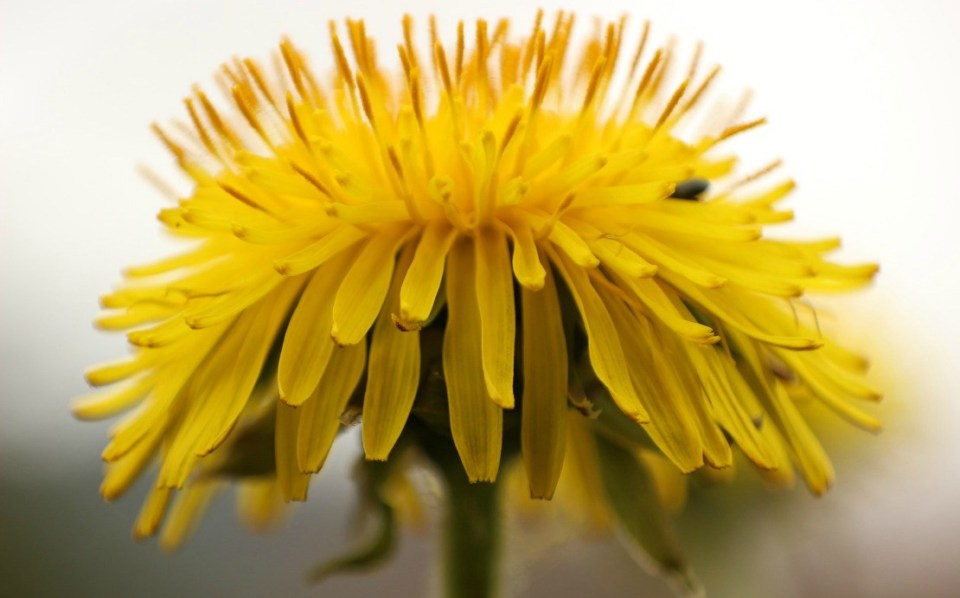dandelion: (126, 84, 795, 442)
